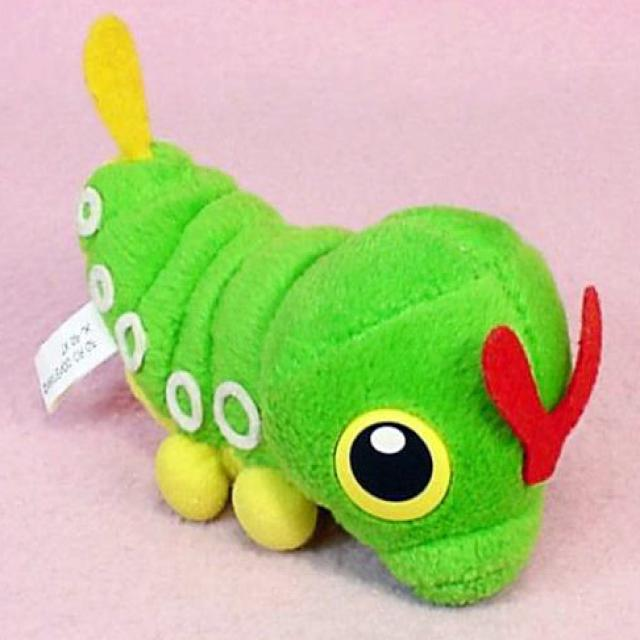Caterpie: (62, 144, 566, 584)
